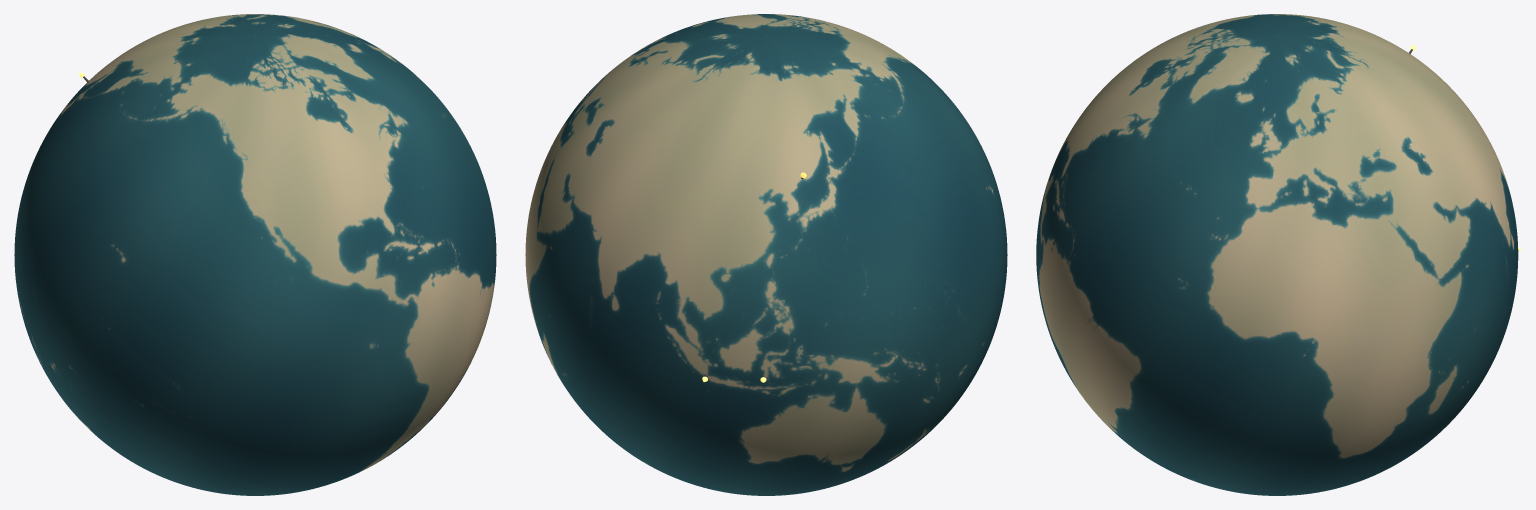
Rendered from globe.glb.
3 renders of one model, left to right at view 1: azimuth 30°, elevation 25°; view 2: azimuth 150°, elevation 25°; view 3: azimuth 270°, elevation 25°, orthographic.
Parts seen in each view (by area): view 1: Earth_Surface; view 2: Earth_Surface; view 3: Earth_Surface.
Boxes of the visible parts, box(x1,y1,x2,y2) form: Earth_Surface: box(14, 14, 496, 495); Earth_Surface: box(525, 14, 1007, 495); Earth_Surface: box(1036, 14, 1518, 495).
Size of the model in its own units: 20 by 20 by 20.14.
3 materials, 1 textured.
